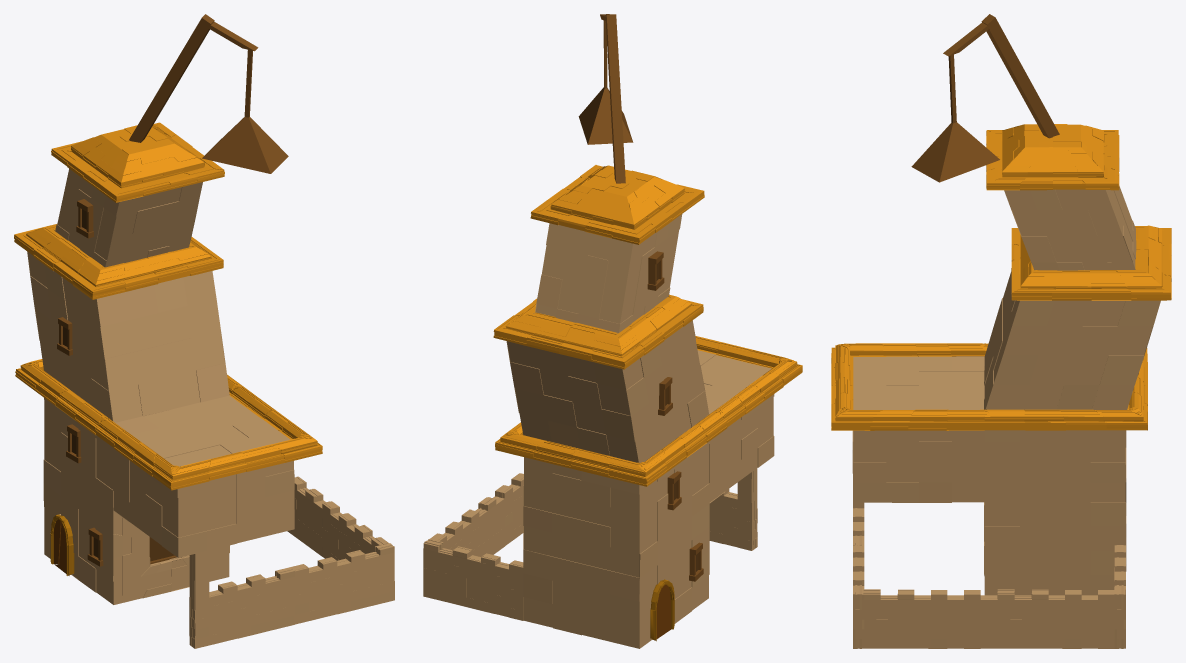
File: Intake_Building_1.fbx
3 views of the same model, side by side, from view 1: azimuth 30°, elevation 25°; view 2: azimuth 150°, elevation 25°; view 3: azimuth 270°, elevation 25° (orthographic).
Visible parts, largest first — view 1: Cube, Cube.007, Cube.006, Cube.001, Cube.005, Cube.004, Cube.008, Cube.011; view 2: Cube, Cube.002, Cube.001, Cube.007, Cube.004, Cube.005, Cube.008, Cube.011; view 3: Cube, Cube.004, Cube.005, Cube.001, Cube.002, Cube.006, Cube.007.
Part boxes in pixels (x1,y1,x2,y2): Cube: (14, 122, 322, 604); Cube.007: (189, 550, 294, 648); Cube.006: (290, 543, 394, 624); Cube.001: (129, 14, 288, 173); Cube.005: (322, 501, 388, 560); Cube.004: (287, 476, 325, 556); Cube.008: (50, 514, 74, 575); Cube.011: (76, 199, 93, 238); Cube: (493, 165, 802, 648); Cube.002: (423, 539, 523, 620); Cube.001: (578, 14, 633, 183); Cube.007: (709, 468, 757, 550); Cube.004: (430, 496, 504, 556); Cube.005: (495, 473, 523, 545); Cube.008: (650, 579, 674, 641); Cube.011: (647, 251, 664, 290); Cube: (831, 124, 1171, 595); Cube.004: (979, 589, 1114, 648); Cube.005: (863, 589, 980, 648); Cube.001: (911, 14, 1059, 182); Cube.002: (1114, 545, 1125, 648); Cube.006: (853, 545, 864, 648); Cube.007: (853, 474, 864, 545).
Bounding box in the file's own units: 1279 × 2939 × 1583.
